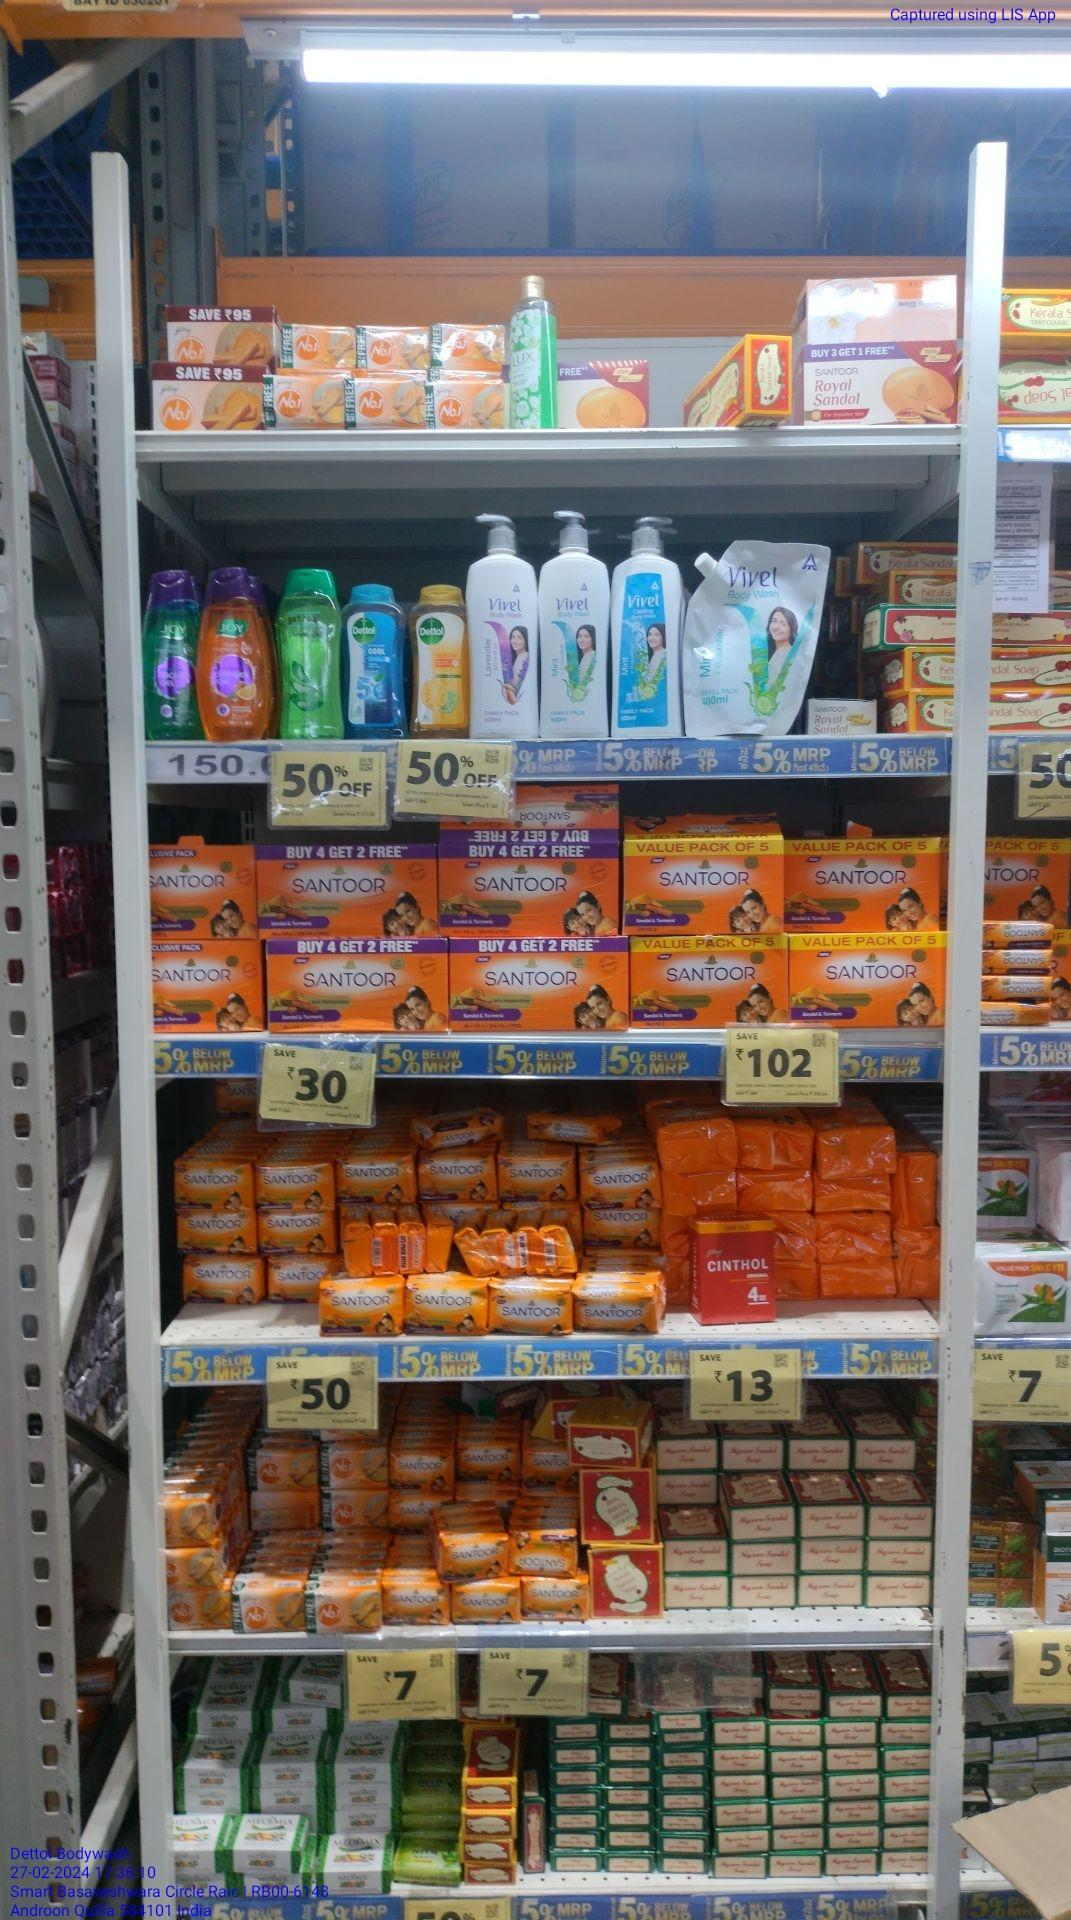Dettol_Bodywash_Cool: (342, 576, 401, 737)
Dettol_Bodywash_Refresh: (410, 587, 467, 737)
Joy_Shower_Gel_Mandarin_and_Lemongrass_250ML: (200, 567, 272, 740)
Joy_Shower_Gel_Mint_and_Eucalyptus_250ML: (140, 563, 199, 742)
Lux_Body_Wash_Skin_Detox_Freesia_Scent_and_Alove_Vera_245ML: (508, 272, 554, 435)
